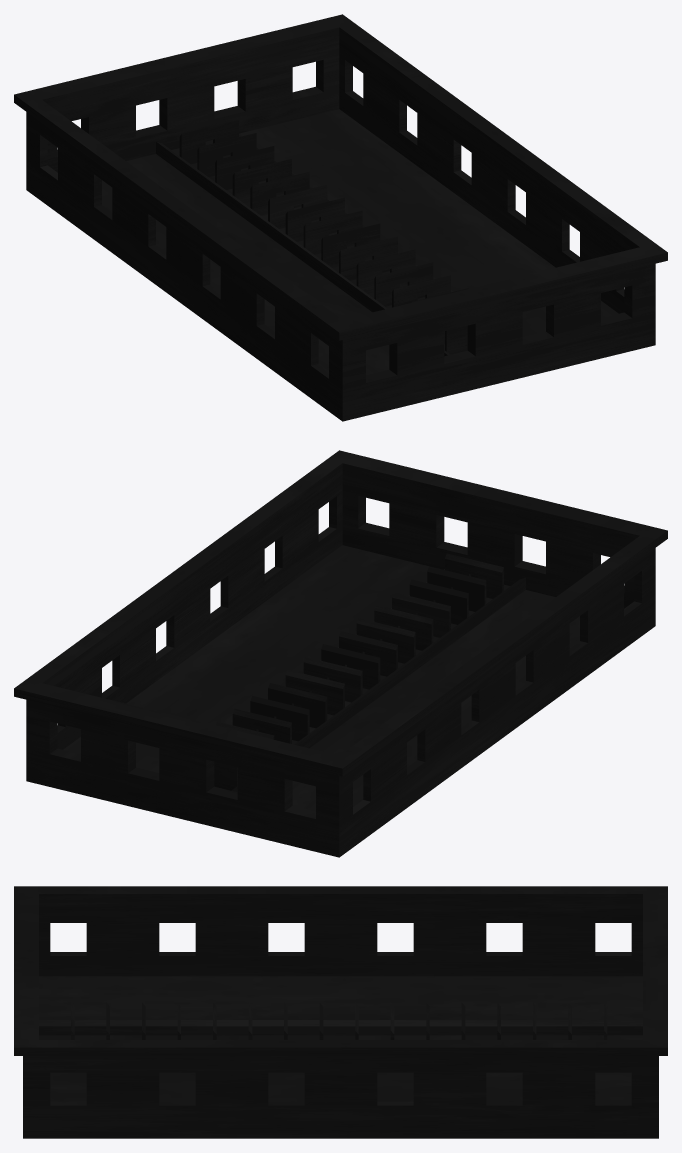
Rendered from dish_dryer.fbx.
3 renders of one model, top to bottom at view 1: azimuth 30°, elevation 25°; view 2: azimuth 150°, elevation 25°; view 3: azimuth 270°, elevation 25°, orthographic.
Parts seen in each view (by area): view 1: dish_dryer; view 2: dish_dryer; view 3: dish_dryer.
Part boxes in pixels (bbox=[...]): dish_dryer: bbox=[14, 14, 667, 421]; dish_dryer: bbox=[14, 450, 667, 857]; dish_dryer: bbox=[14, 886, 667, 1138].
Size of the model in its own units: 42 by 11.5 by 72.
